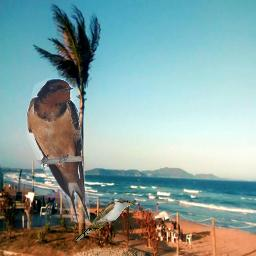Cuckoo: (74, 198, 136, 243)
Swallow: (26, 78, 90, 223)
